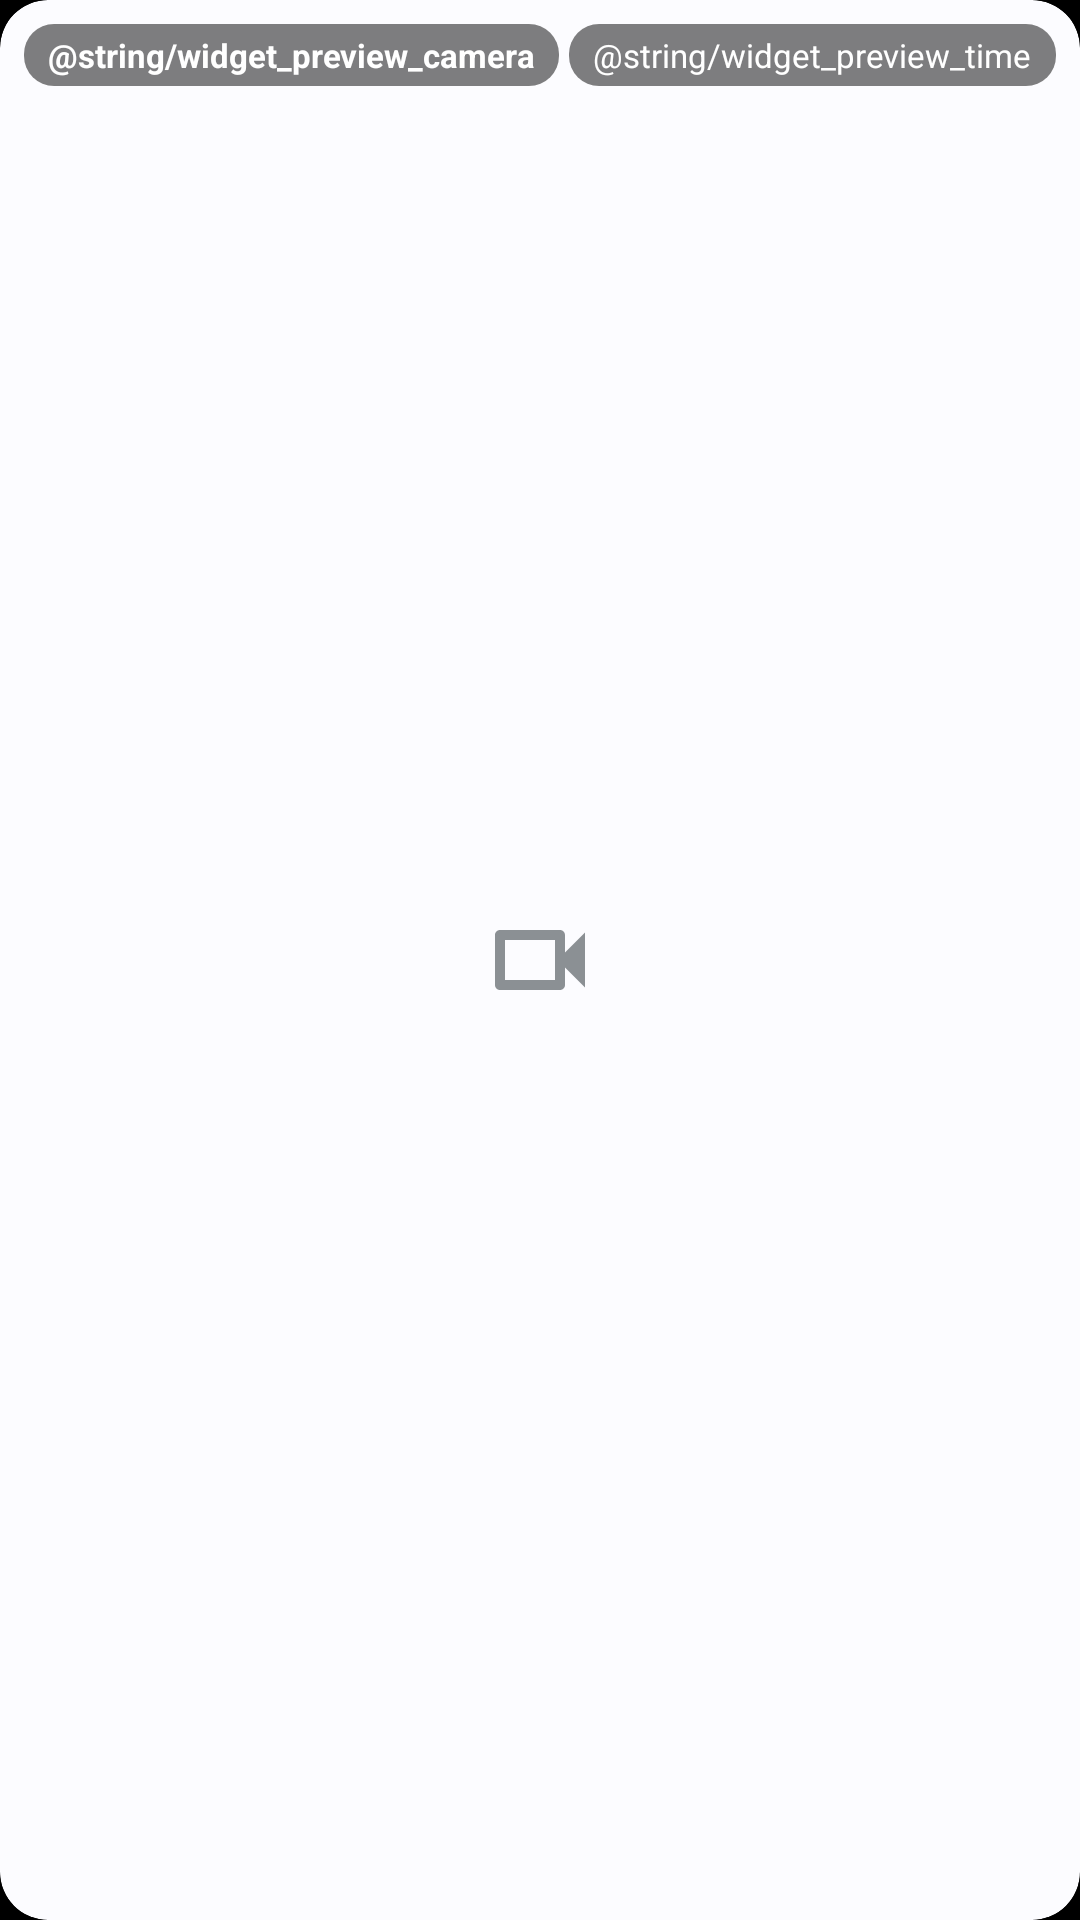

Icons on this 1080px x 1920px Android screen, each with its box as (x1, y1, x2, y2):
widget camera: (495, 930, 585, 990)
